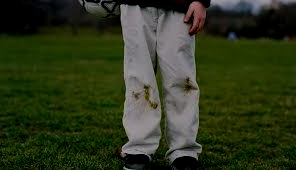earth: (185, 77, 192, 97), (142, 87, 150, 101), (132, 91, 139, 100), (151, 103, 157, 109)
